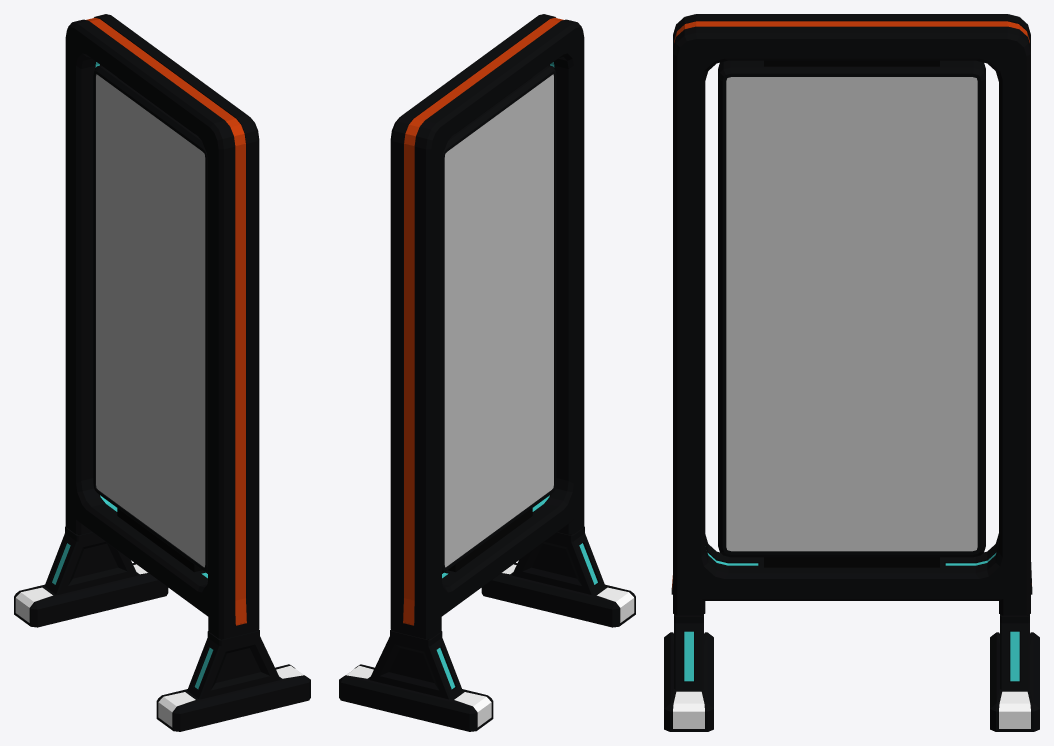
Rendered from SM_Advertising_Panel.obj.
3 renders of one model, left to right at view 1: azimuth 30°, elevation 25°; view 2: azimuth 150°, elevation 25°; view 3: azimuth 270°, elevation 25°, orthographic. The views are drawn at different scales.
Visible parts, largest first — view 1: SM_Advertising_Panel; view 2: SM_Advertising_Panel; view 3: SM_Advertising_Panel.
Boxes of the visible parts, x1,y1,x2,y2 form: SM_Advertising_Panel: (14, 14, 310, 731); SM_Advertising_Panel: (339, 14, 635, 731); SM_Advertising_Panel: (664, 14, 1039, 731).
Size of the model in its own units: 0.4055 by 1.65 by 0.839.
